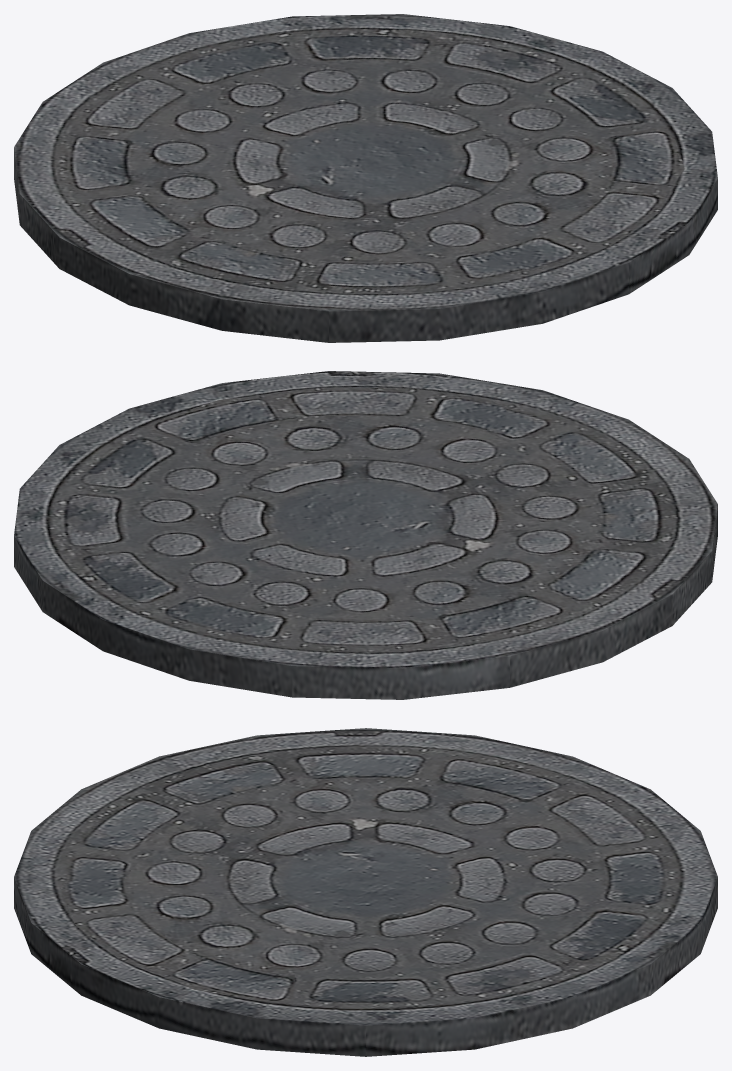
The model's file is Ground_UtilityHole_A.fbx.
3 renders of one model, top to bottom at view 1: azimuth 30°, elevation 25°; view 2: azimuth 150°, elevation 25°; view 3: azimuth 270°, elevation 25°, orthographic.
Visible parts, largest first — view 1: Ground_UtilityHole_A; view 2: Ground_UtilityHole_A; view 3: Ground_UtilityHole_A.
Part boxes in pixels (bbox=[...]): Ground_UtilityHole_A: bbox=[14, 14, 717, 342]; Ground_UtilityHole_A: bbox=[14, 371, 717, 699]; Ground_UtilityHole_A: bbox=[14, 728, 717, 1056].
Size of the model in its own units: 30.59 by 1.5 by 30.59.
1 material, 1 textured.
